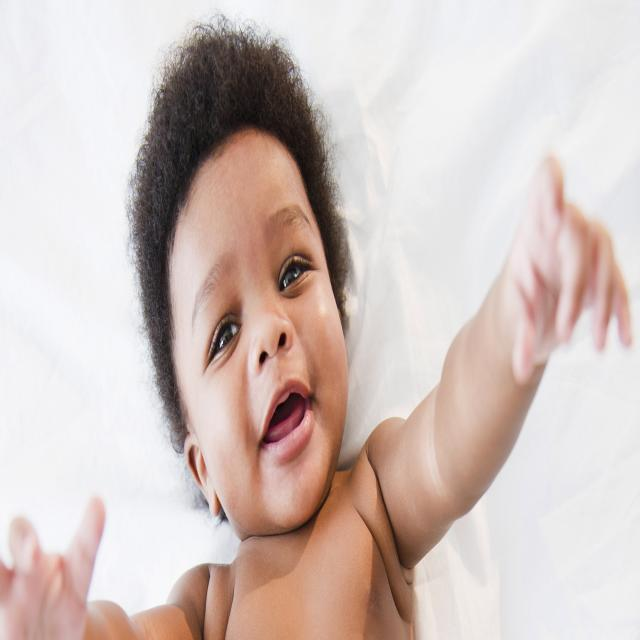child: (2, 17, 630, 640)
